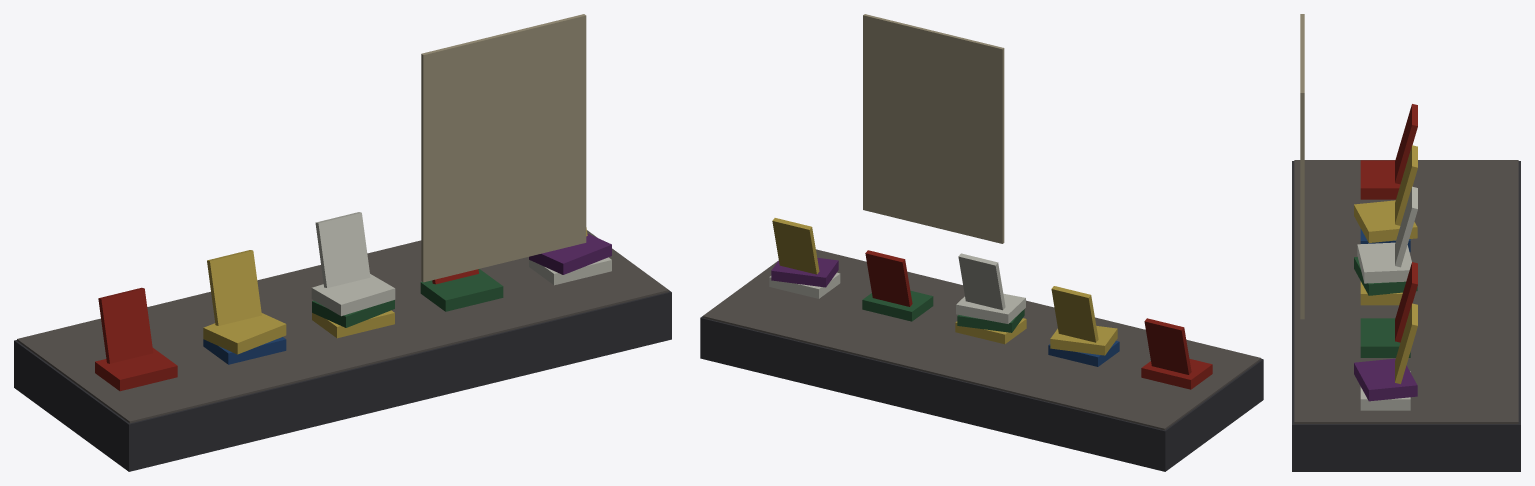
File: display_books.glb
3 renders of one model, left to right at view 1: azimuth 30°, elevation 25°; view 2: azimuth 150°, elevation 25°; view 3: azimuth 270°, elevation 25°, orthographic. The views are drawn at different scales.
Parts seen in each view (by area): view 1: display_books; view 2: display_books; view 3: display_books.
Part boxes in pixels (x1=…): display_books: x1=14, y1=14, x2=671, y2=471; display_books: x1=700, y1=14, x2=1263, y2=471; display_books: x1=1292, y1=14, x2=1520, y2=471.
Size of the model in its own units: 3 by 1.8 by 1.1.
